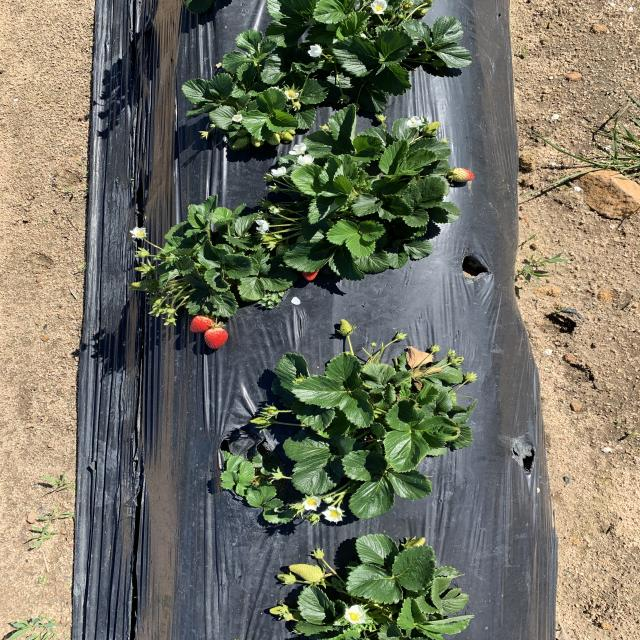unripe: (298, 253, 323, 283), (203, 326, 229, 351), (189, 315, 216, 333)
